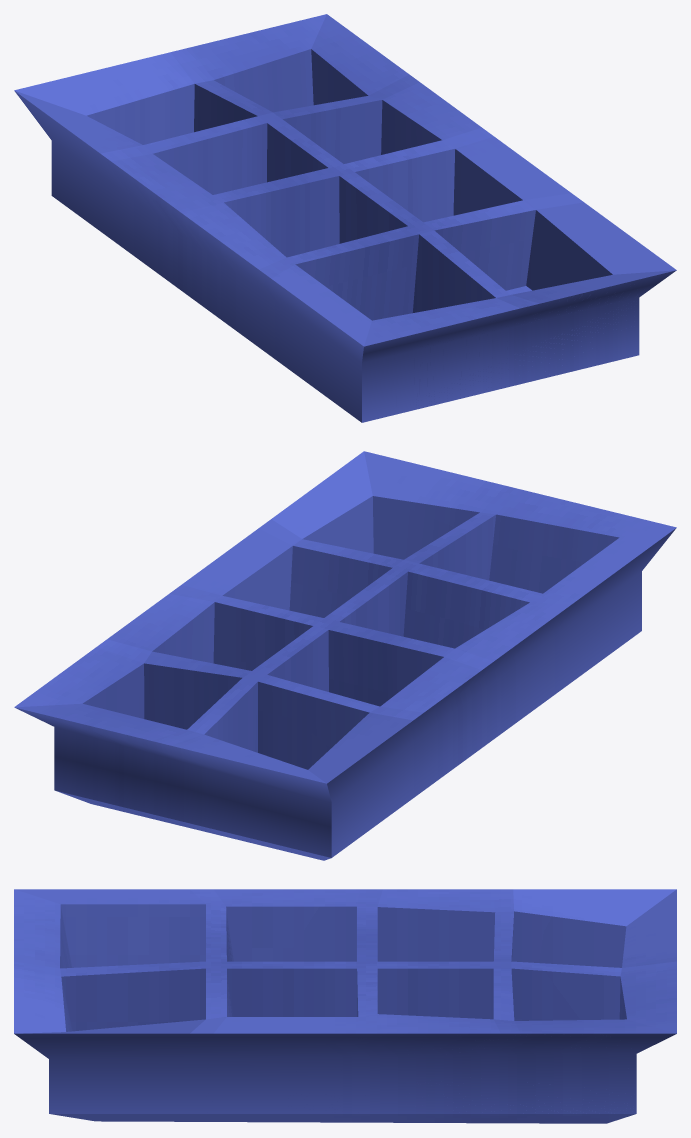
Rendered from IceCubes_Tray.fbx.
3 renders of one model, top to bottom at view 1: azimuth 30°, elevation 25°; view 2: azimuth 150°, elevation 25°; view 3: azimuth 270°, elevation 25°, orthographic. The views are drawn at different scales.
Parts seen in each view (by area): view 1: CubeTray; view 2: CubeTray; view 3: CubeTray.
Part boxes in pixels (box(x1,y1,x2,y2)): CubeTray: box(14, 14, 676, 422); CubeTray: box(14, 451, 676, 860); CubeTray: box(14, 889, 676, 1123).
Bounding box in the file's own units: 23.85 × 8.43 × 46.21.
